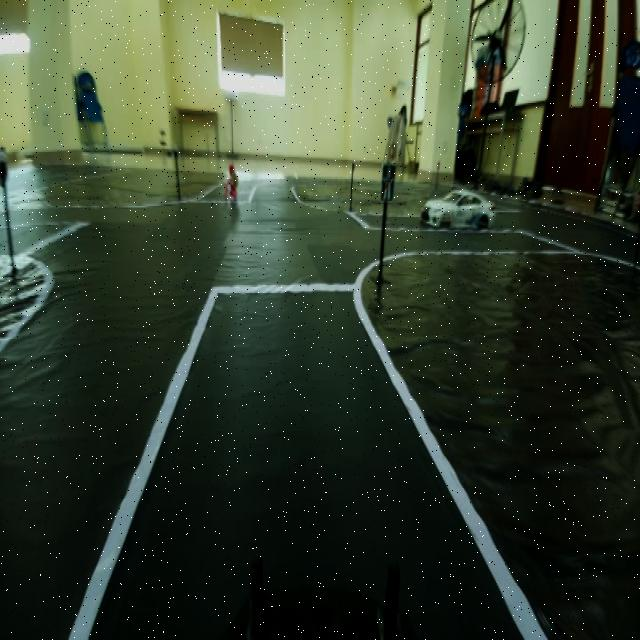highway_exit: (376, 156, 400, 205)
